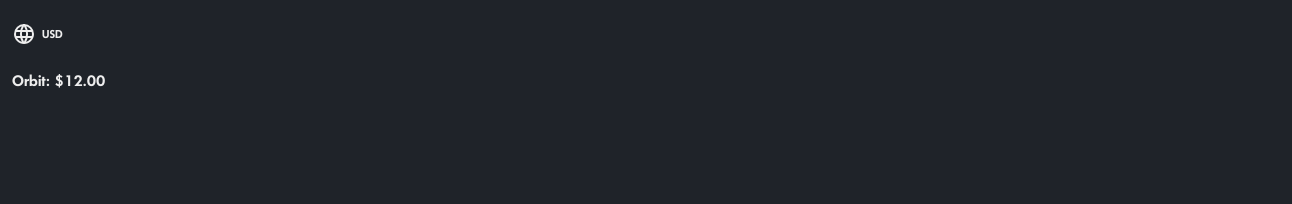
it: keeps selection usable when browser storage is blocked
Expected: the text "Orbit: $12.00" is shown, [12,73,105,89]
Click the button with aria-label "Choose currency" at point(37, 34), box [12,12,63,56]
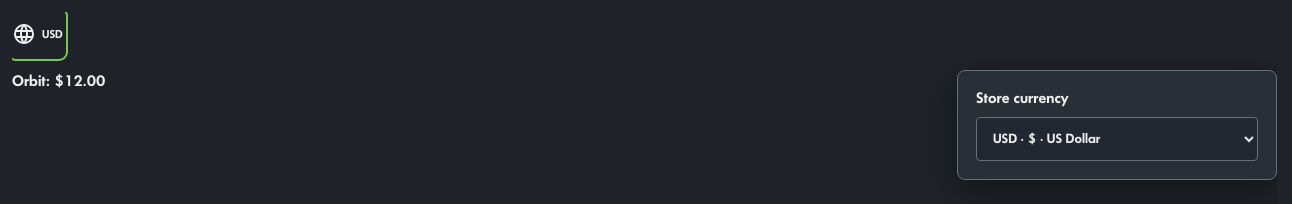
Select "EUR · € · Euro" in the dropdown labelled "Store currency" at point(1117, 139), box [976,117,1258,161]
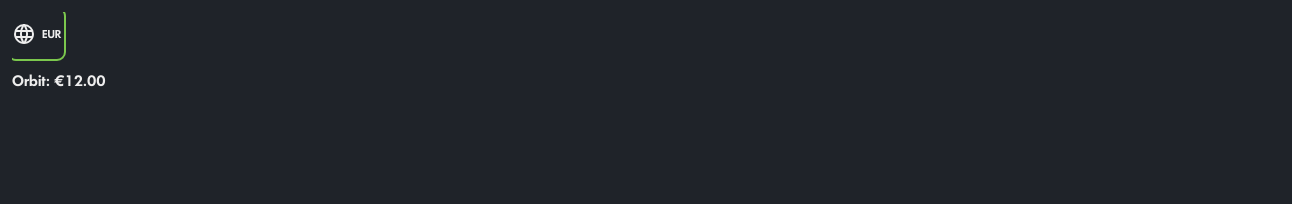
Expected: the text "Orbit: €12.00" is shown, [12,73,106,89]
Expected: the text "EUR" is shown, [42,27,62,41]
